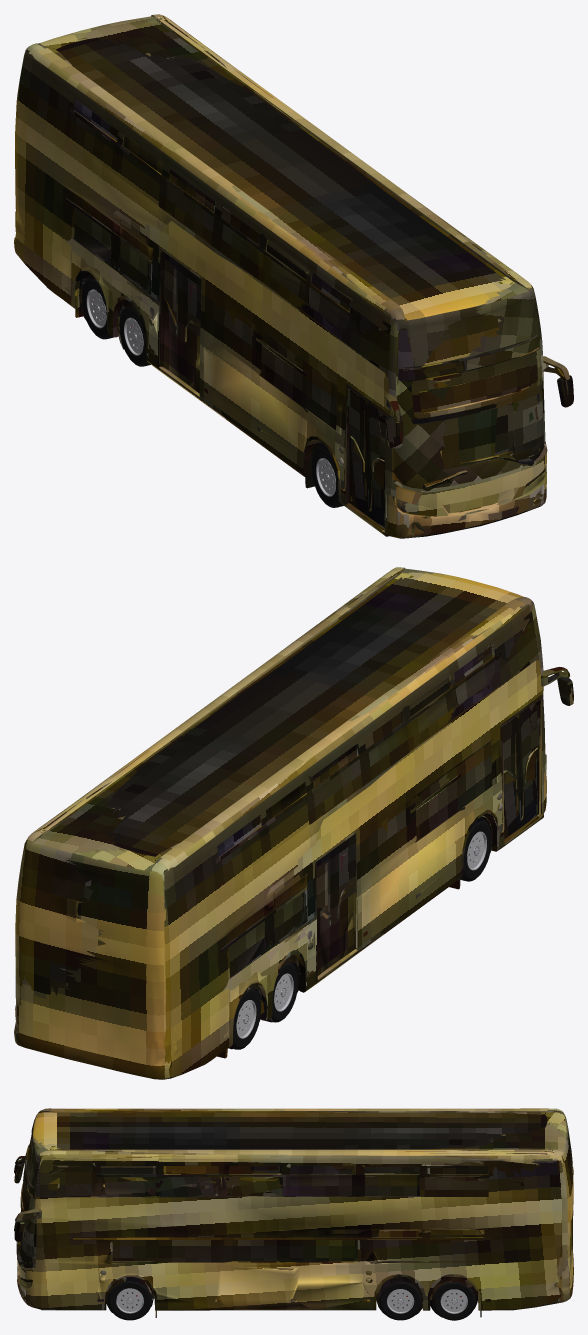
The model's file is bus_m.glb.
3 views of the same model, one above another, from view 1: azimuth 30°, elevation 25°; view 2: azimuth 150°, elevation 25°; view 3: azimuth 270°, elevation 25° (orthographic). The views are drawn at different scales.
Parts seen in each view (by area): view 1: karosserie, rad_vr, rad_hr2, rad_hr; view 2: karosserie, rad_vr, rad_hr2, rad_hr; view 3: karosserie, rad_vl, rad_hl2, rad_hl.
Part boxes in pixels (x1,y1,x2,y2): karosserie: (14,14,573,538); rad_vr: (311,446,343,507); rad_hr2: (82,278,124,339); rad_hr: (119,306,150,366); karosserie: (14,567,573,1079); rad_vr: (460,820,491,881); rad_hr2: (232,988,260,1049); rad_hr: (255,962,298,1022); karosserie: (14,1108,573,1317); rad_vl: (107,1281,152,1320); rad_hl2: (432,1282,475,1320); rad_hl: (378,1282,422,1320).
Size of the model in its own units: 3.69 by 4.48 by 13.73.
3 materials, 1 textured.
